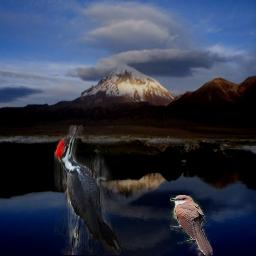Cuckoo: (170, 195, 213, 256)
Woodpecker: (54, 125, 121, 255)
